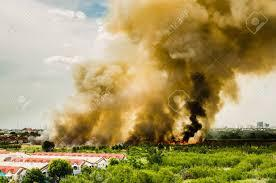yanwu: (27, 1, 275, 148)
